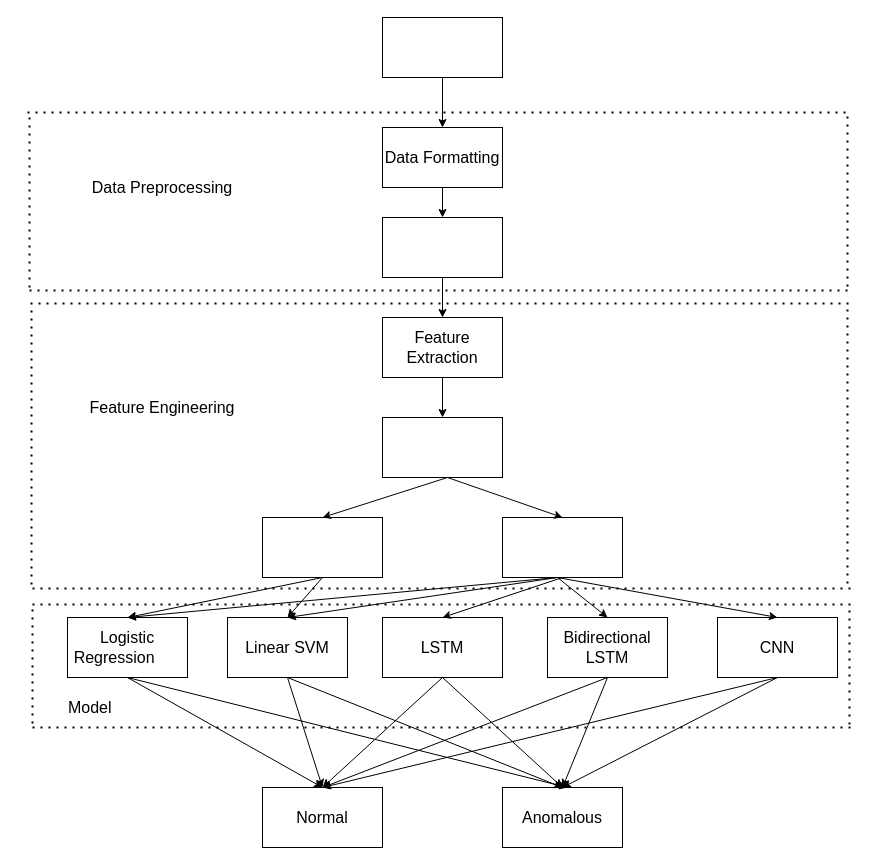
Image size: 871x865. Some labels were removed from this diagram. Each missing label, with the centre of its shape:
"Data Labelling" goes at point 442,247.
"Feature Scaling" goes at point 442,447.
"Source Data" goes at point 442,47.
"TF-IDF Vectorizer" goes at point 322,547.
"Tokenization" goes at point 562,547.
